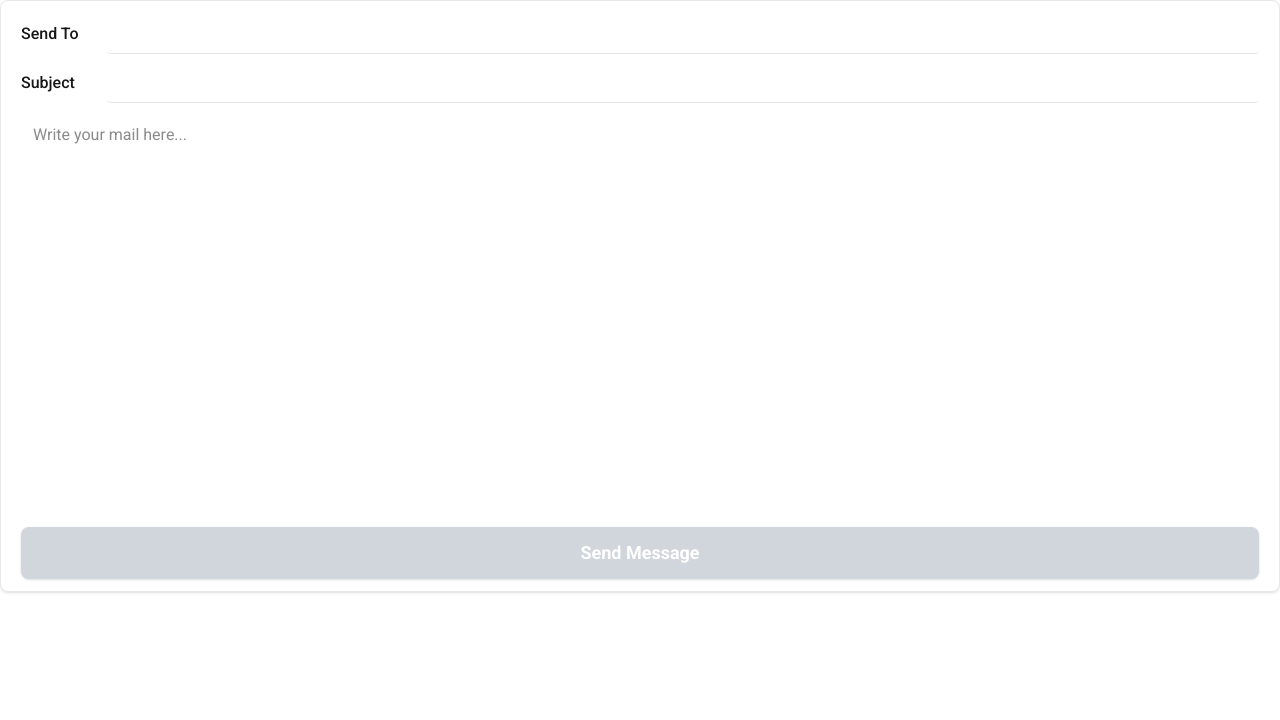
it: ComposeForm Component › shows suggestions and allows selection
Type "friend" into the field next to "Send To".
click(683, 34); type("friend")  # box [107,13,1259,54]
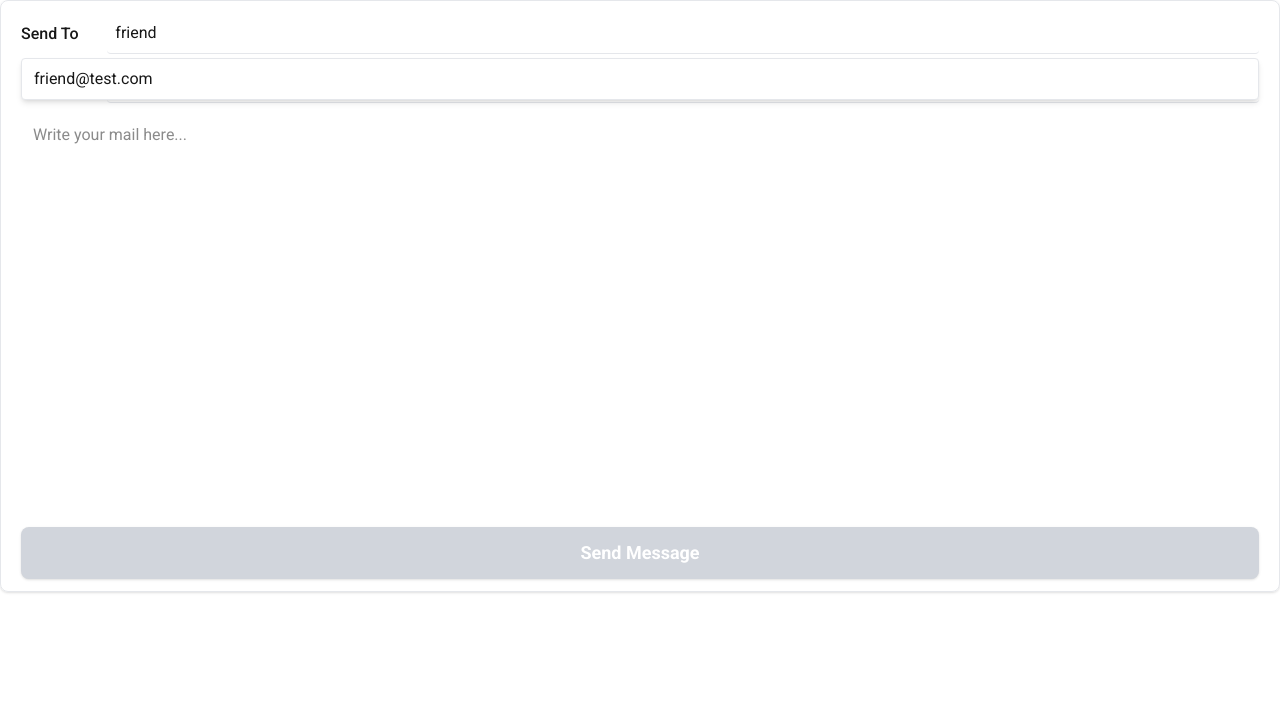
Now the text "friend@test.com" is shown
Click the text "friend@test.com".
click(93, 78)  # box [34,69,152,88]
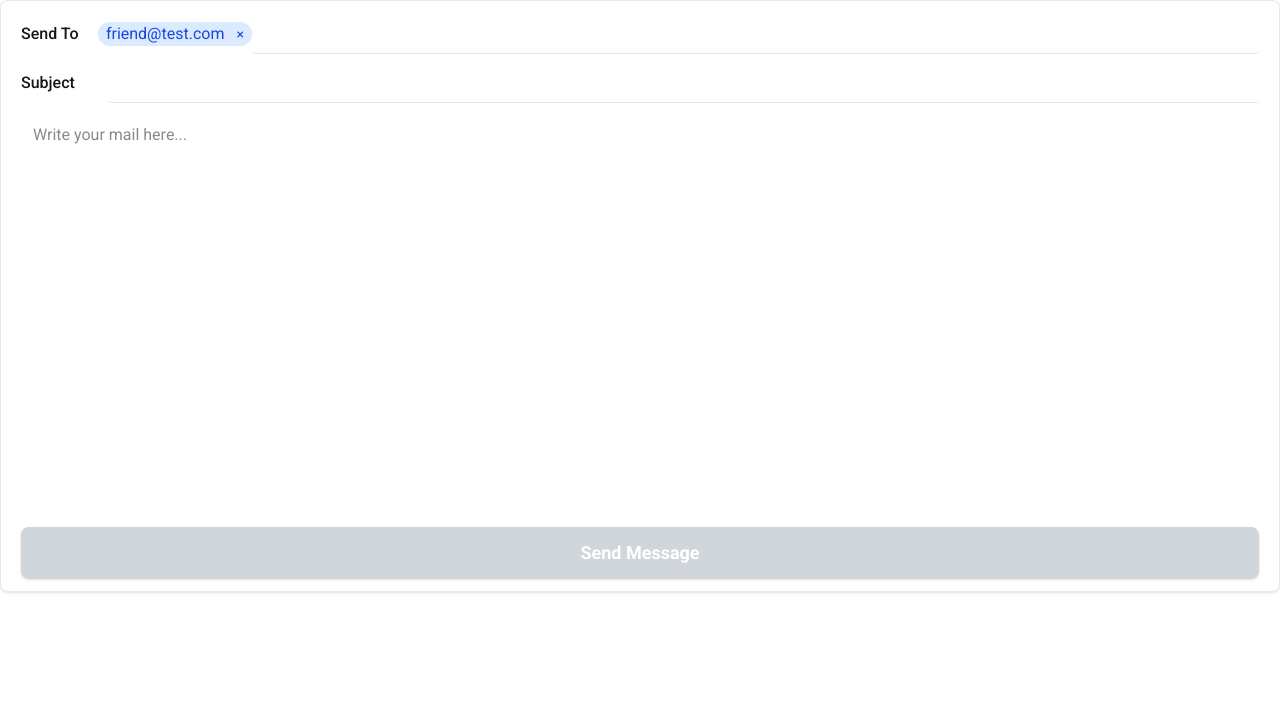
Now the text "friend@test.com" is shown, box [106,24,224,42]
Now the button "×" is shown, box [236,24,244,44]
